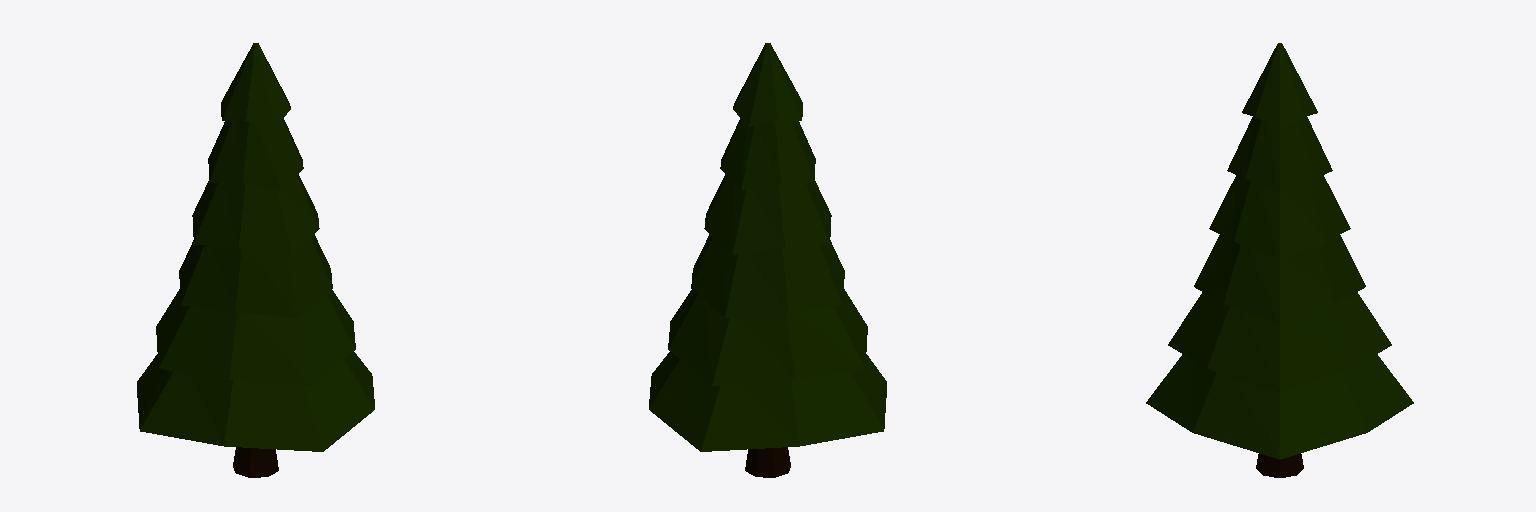
Rendered from tree.obj.
3 renders of one model, left to right at view 1: azimuth 30°, elevation 25°; view 2: azimuth 150°, elevation 25°; view 3: azimuth 270°, elevation 25°, orthographic.
Visible parts, largest first — view 1: Tree1_Cylinder; view 2: Tree1_Cylinder; view 3: Tree1_Cylinder.
Part boxes in pixels (bbox=[...]): Tree1_Cylinder: bbox=[137, 43, 374, 477]; Tree1_Cylinder: bbox=[649, 43, 886, 477]; Tree1_Cylinder: bbox=[1146, 43, 1413, 477].
Bounding box in the file's own units: 4.58 × 7.99 × 4.58.